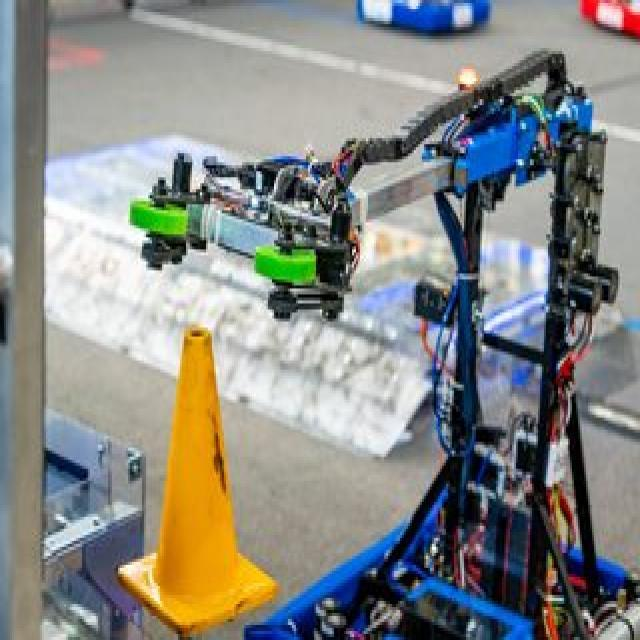robot: (123, 36, 640, 640), (353, 0, 492, 36), (572, 0, 640, 41)
